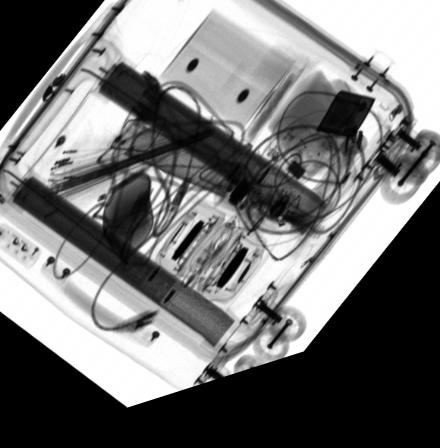Lighter: (315, 109, 375, 159)
